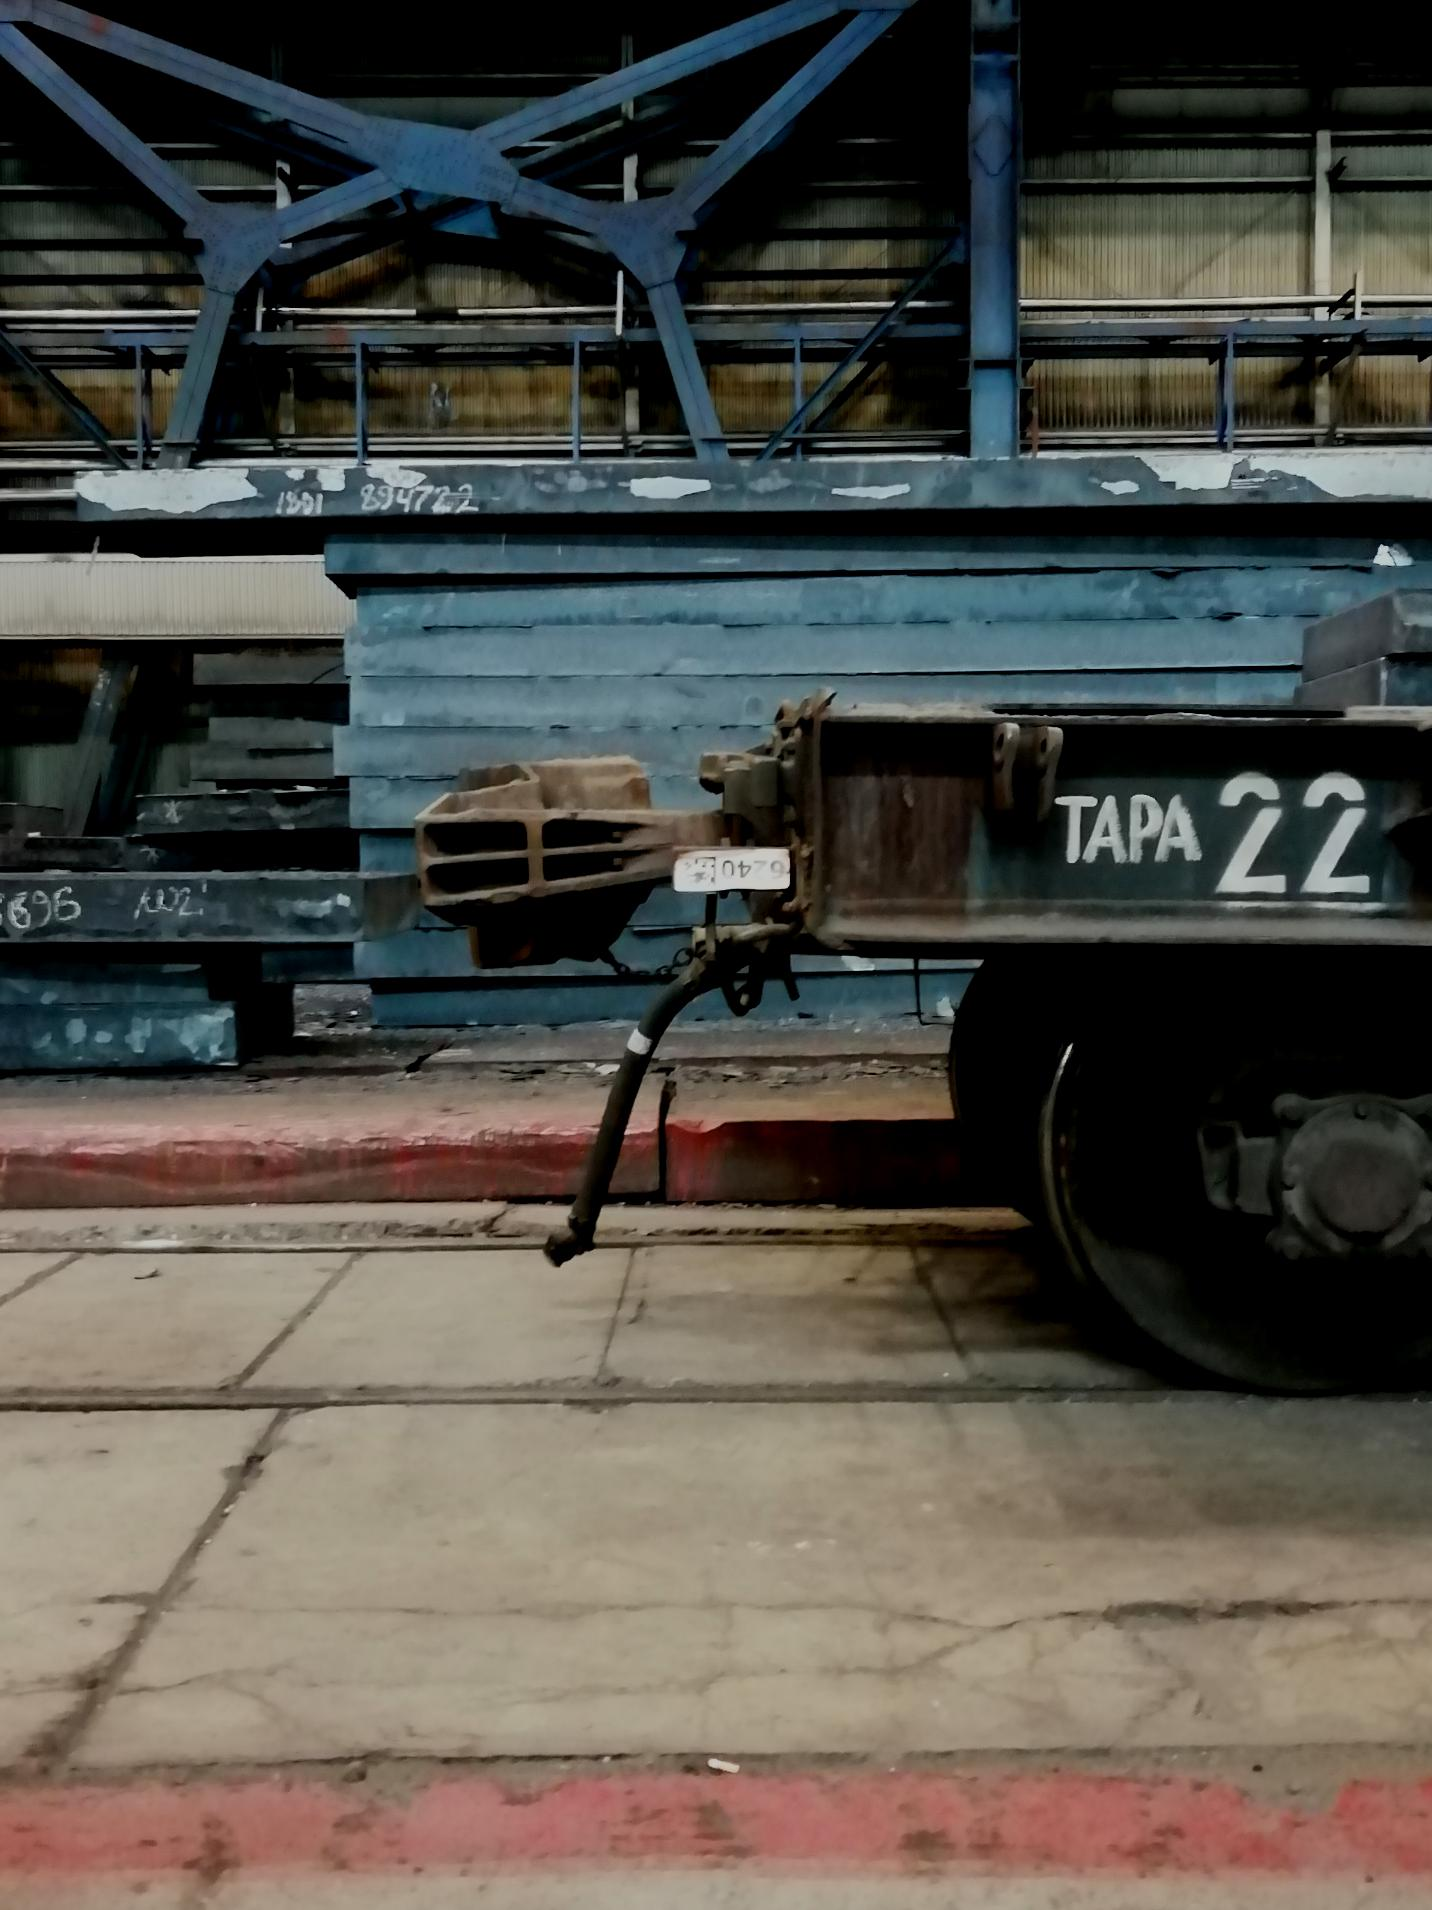data matrix: (675, 850, 721, 896)
